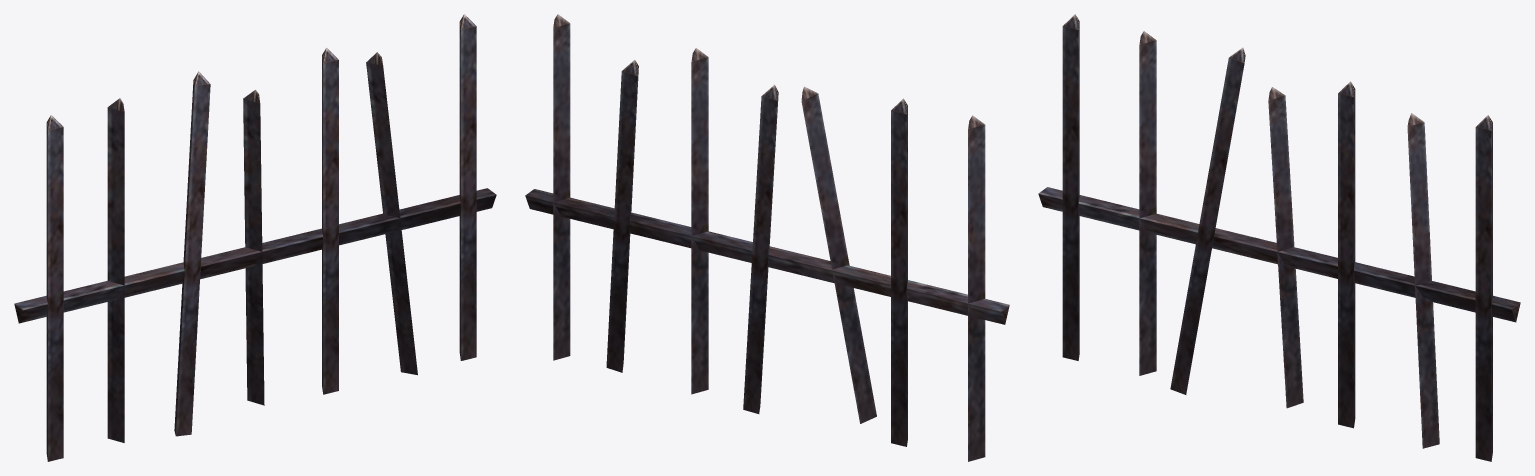
Rendered from Baza.fbx.
3 views of the same model, side by side, from view 1: azimuth 30°, elevation 25°; view 2: azimuth 150°, elevation 25°; view 3: azimuth 330°, elevation 25° (orthographic).
Visible parts, largest first — view 1: Baza; view 2: Baza; view 3: Baza.
Boxes of the visible parts, <box> form: Baza: <box>14,14,496,461</box>; Baza: <box>525,14,1009,461</box>; Baza: <box>1038,14,1520,461</box>.
Size of the model in its own units: 1.44 by 0.9941 by 0.1521.
